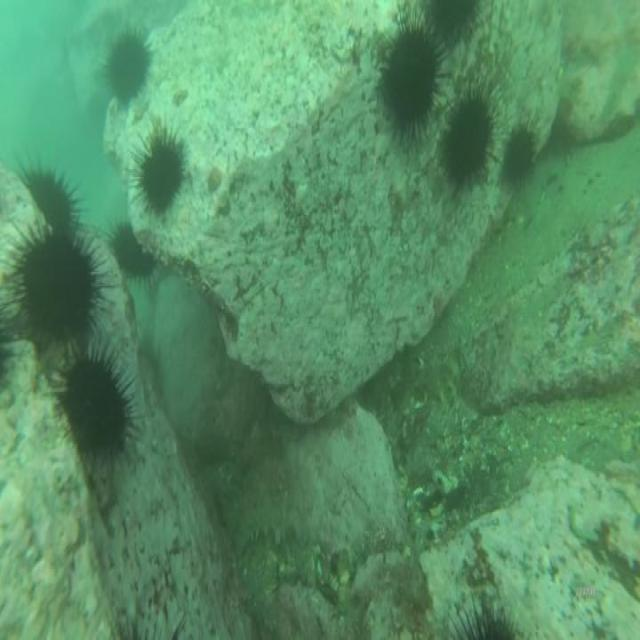echinus: (0, 231, 130, 360), (50, 329, 148, 479), (372, 10, 452, 150), (125, 112, 198, 226), (435, 84, 501, 210), (14, 154, 94, 244), (93, 22, 161, 114), (108, 212, 166, 289), (417, 0, 491, 55), (502, 109, 540, 193)
